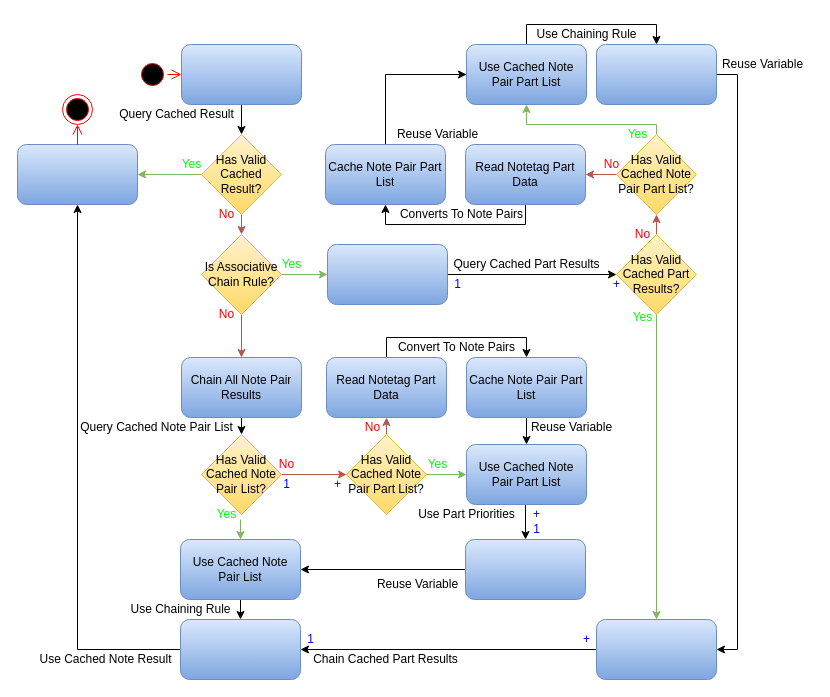
This 830x697 diagram has some shape labels left out. The centre of each missing label's shape, as x and y in pixels:
Cache Note Pair List: point 525,569
Cache Note Part Results: point 656,74
Cache Note Result: point 240,649
Chain Note Part Results: point 387,274
Get Note Result: point 241,74
Return Note Result: point 77,174
Use Cached Part Results: point 656,649
